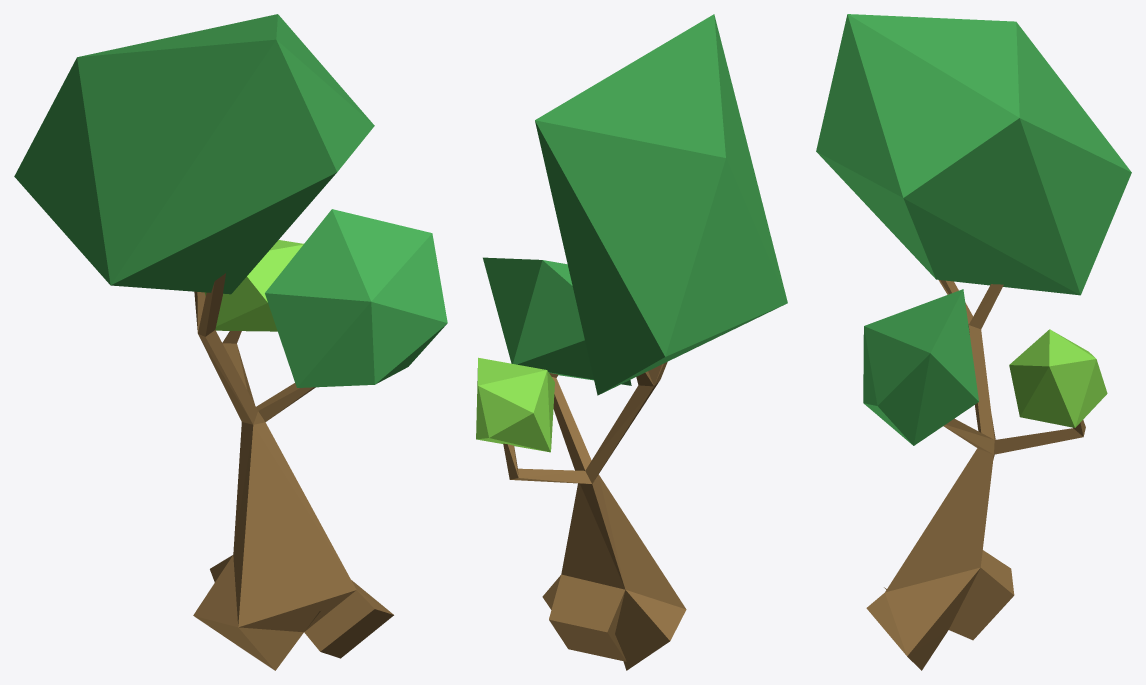
The model's file is OakTree.fbx.
The picture shows the model from 3 angles, left to right: view 1: azimuth 30°, elevation 25°; view 2: azimuth 150°, elevation 25°; view 3: azimuth 270°, elevation 25°; orthographic projection. The views are drawn at different scales.
Visible parts, largest first — view 1: Icosphere.001, Trunk, Icosphere, Icosphere.002; view 2: Icosphere.001, Trunk, Icosphere, Icosphere.002; view 3: Icosphere.001, Trunk, Icosphere, Icosphere.002.
Part boxes in pixels (left/top/right/bottom): Icosphere.001: left=14, top=14, right=374, bottom=294; Trunk: left=193, top=273, right=393, bottom=670; Icosphere: left=265, top=209, right=447, bottom=387; Icosphere.002: left=204, top=240, right=303, bottom=331; Icosphere.001: left=535, top=14, right=787, bottom=395; Trunk: left=503, top=362, right=686, bottom=670; Icosphere: left=483, top=257, right=631, bottom=385; Icosphere.002: left=476, top=357, right=554, bottom=452; Icosphere.001: left=816, top=14, right=1131, bottom=295; Trunk: left=866, top=280, right=1085, bottom=670; Icosphere: left=863, top=289, right=978, bottom=445; Icosphere.002: left=1009, top=329, right=1107, bottom=427.
Bounding box in the file's own units: 549 × 1092 × 512.
